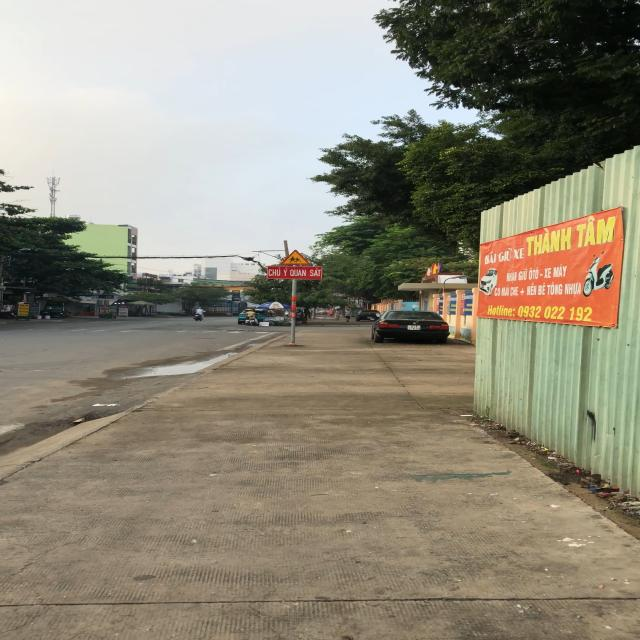Bien bao tre em: (280, 248, 312, 266)
